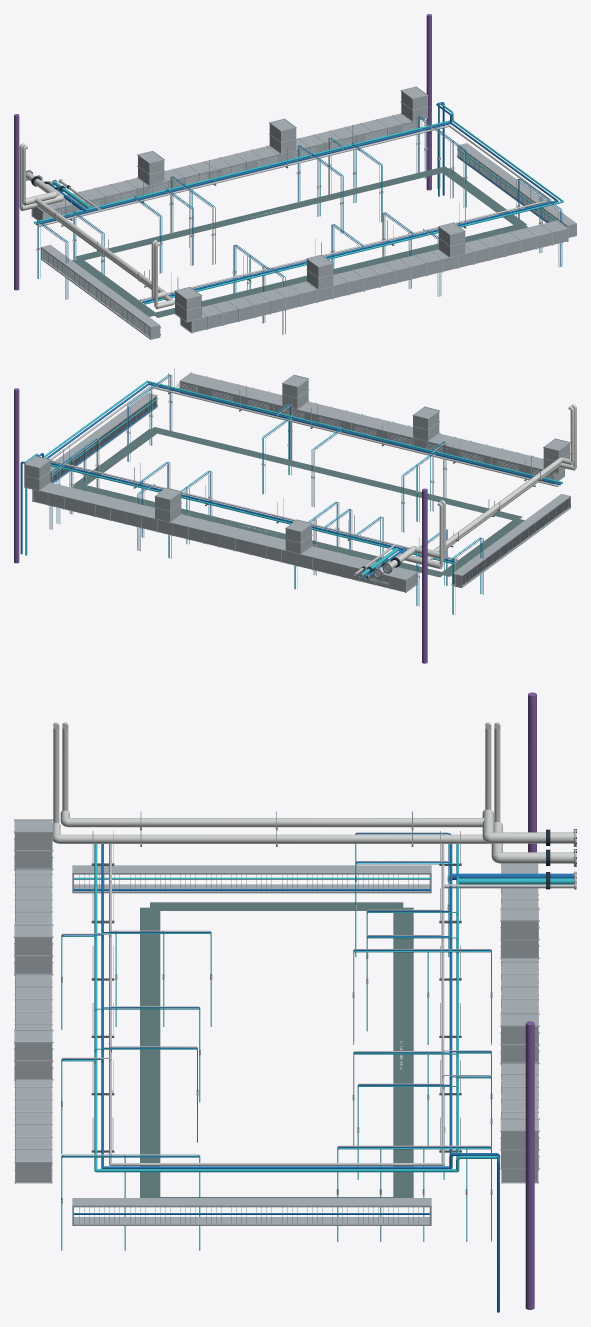
File: fab1-plenum-l3.glb
The picture shows the model from 3 angles, top to bottom: view 1: azimuth 30°, elevation 25°; view 2: azimuth 150°, elevation 25°; view 3: azimuth 270°, elevation 25°; orthographic projection. The views are drawn at different scales.
Parts seen in each view (by area): view 1: FAB1_L3_SupplyHeader_S, FAB1_L3_SupplyHeader_N, FAB1_L3_Walkways, FAB1_L3_DCC_W, FAB1_L3_CDA, FAB1_L3_DCC_E, FAB1_L3_Diffusers_N, FAB1_L3_ExhaustRiser_NW, FAB1_L3_PCWS_North, FAB1_L3_PCWR_North, FAB1_L3_CDA_North, FAB1_L3_CHWS_South (+13 smaller); view 2: FAB1_L3_SupplyHeader_N, FAB1_L3_SupplyHeader_S, FAB1_L3_Walkways, FAB1_L3_DCC_W, FAB1_L3_CDA, FAB1_L3_DCC_E, FAB1_L3_Diffusers_S, FAB1_L3_PCWR_South, FAB1_L3_ExhaustRiser_NE, FAB1_L3_ExhaustRiser_NW, FAB1_L3_PCWS_South, FAB1_L3_CDA_South (+13 smaller); view 3: FAB1_L3_Walkways, FAB1_L3_SupplyHeader_S, FAB1_L3_DCC_E, FAB1_L3_DCC_W, FAB1_L3_SupplyHeader_N, FAB1_L3_CHWR_South, FAB1_L3_CHWS_South, FAB1_L3_CDA, FAB1_L3_ExhaustRiser_NE, FAB1_L3_Downfeed_S3, FAB1_L3_Downfeed_S1, FAB1_L3_Downfeed_S2 (+18 smaller).
Part boxes in pixels (<box>): FAB1_L3_SupplyHeader_S: <box>180,220,568,333</box>; FAB1_L3_SupplyHeader_N: <box>31,113,419,223</box>; FAB1_L3_Walkways: <box>72,166,527,317</box>; FAB1_L3_DCC_W: <box>41,245,160,339</box>; FAB1_L3_CDA: <box>37,116,559,334</box>; FAB1_L3_DCC_E: <box>457,143,576,237</box>; FAB1_L3_Diffusers_N: <box>42,121,422,219</box>; FAB1_L3_ExhaustRiser_NW: <box>14,114,19,290</box>; FAB1_L3_PCWS_North: <box>35,122,450,224</box>; FAB1_L3_PCWR_North: <box>33,120,452,223</box>; FAB1_L3_CDA_North: <box>38,125,448,226</box>; FAB1_L3_CHWS_South: <box>35,197,166,299</box>; FAB1_L3_SupplyHeader_N: <box>32,482,417,592</box>; FAB1_L3_SupplyHeader_S: <box>179,372,564,484</box>; FAB1_L3_Walkways: <box>72,427,524,577</box>; FAB1_L3_DCC_W: <box>452,494,570,587</box>; FAB1_L3_CDA: <box>52,375,483,614</box>; FAB1_L3_DCC_E: <box>50,393,157,483</box>; FAB1_L3_Diffusers_S: <box>176,382,554,479</box>; FAB1_L3_PCWR_South: <box>147,380,562,483</box>; FAB1_L3_ExhaustRiser_NE: <box>14,388,19,563</box>; FAB1_L3_ExhaustRiser_NW: <box>422,488,427,663</box>; FAB1_L3_PCWS_South: <box>149,383,560,485</box>; FAB1_L3_CDA_South: <box>151,386,558,486</box>; FAB1_L3_Walkways: <box>140,902,413,1197</box>; FAB1_L3_SupplyHeader_S: <box>14,869,52,1183</box>; FAB1_L3_DCC_E: <box>72,1198,431,1225</box>; FAB1_L3_DCC_W: <box>72,865,431,893</box>; FAB1_L3_SupplyHeader_N: <box>501,863,538,1183</box>; FAB1_L3_CHWR_South: <box>52,823,491,843</box>; FAB1_L3_CHWS_South: <box>60,810,484,827</box>; FAB1_L3_CDA: <box>61,832,491,1239</box>; FAB1_L3_ExhaustRiser_NE: <box>525,1021,534,1309</box>; FAB1_L3_Downfeed_S3: <box>14,1029,53,1080</box>; FAB1_L3_Downfeed_S1: <box>14,819,53,870</box>; FAB1_L3_Downfeed_S2: <box>14,924,53,975</box>.
Size of the model in its own units: 35.68 by 13.9 by 24.89.
Materials: 1 (1 with a texture image).
